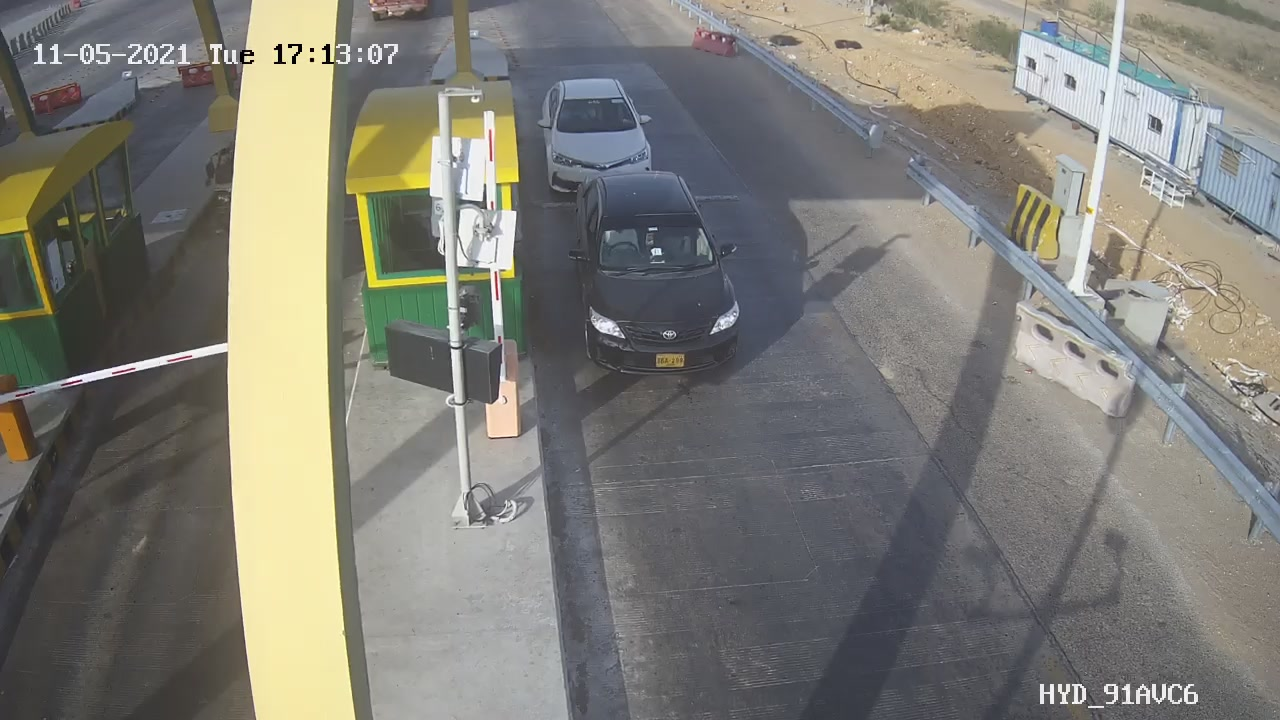F1: (553, 157, 769, 398), (526, 66, 668, 209)
